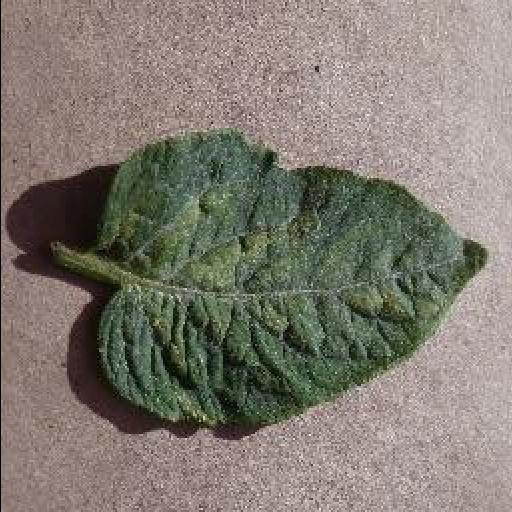disease_tomato: (94, 129, 490, 427)
